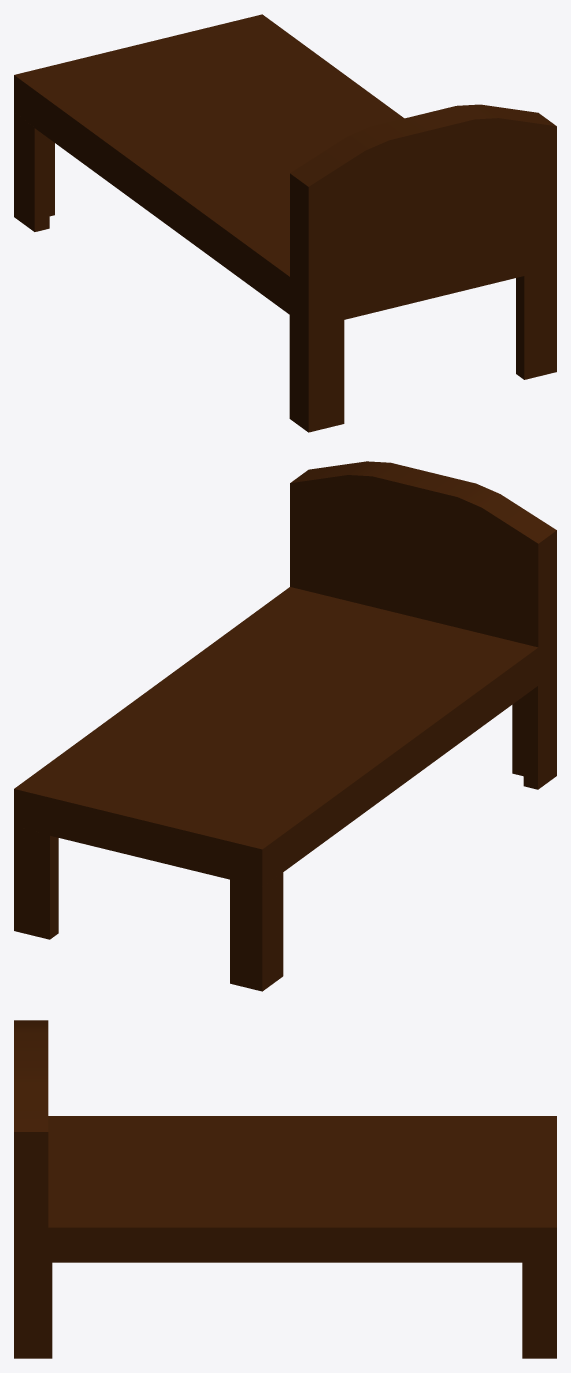
File: BedFrame.FBX
The picture shows the model from 3 angles, top to bottom: view 1: azimuth 30°, elevation 25°; view 2: azimuth 150°, elevation 25°; view 3: azimuth 270°, elevation 25°; orthographic projection. The views are drawn at different scales.
Parts seen in each view (by area): view 1: Bed_Frame, BedLeg_BackLeft, BedLeg_BackRight, BedLeg_FrontLeft; view 2: Bed_Frame, BedLeg_FrontLeft, BedLeg_ForntRight, BedLeg_BackLeft; view 3: Bed_Frame, BedLeg_BackRight, BedLeg_ForntRight.
Boxes of the visible parts, x1=… form: Bed_Frame: x1=14, y1=14, x2=556, y2=328; BedLeg_BackLeft: x1=289, y1=315, x2=344, y2=432; BedLeg_BackRight: x1=516, y1=268, x2=556, y2=379; BedLeg_FrontLeft: x1=14, y1=112, x2=54, y2=231; Bed_Frame: x1=14, y1=461, x2=556, y2=887; BedLeg_FrontLeft: x1=230, y1=872, x2=283, y2=991; BedLeg_ForntRight: x1=14, y1=826, x2=58, y2=939; BedLeg_BackLeft: x1=512, y1=672, x2=556, y2=789; Bed_Frame: x1=14, y1=1020, x2=556, y2=1262; BedLeg_BackRight: x1=14, y1=1262, x2=52, y2=1358; BedLeg_ForntRight: x1=522, y1=1262, x2=556, y2=1358.
Bounding box in the file's own units: 61.33 × 64.33 × 126.
